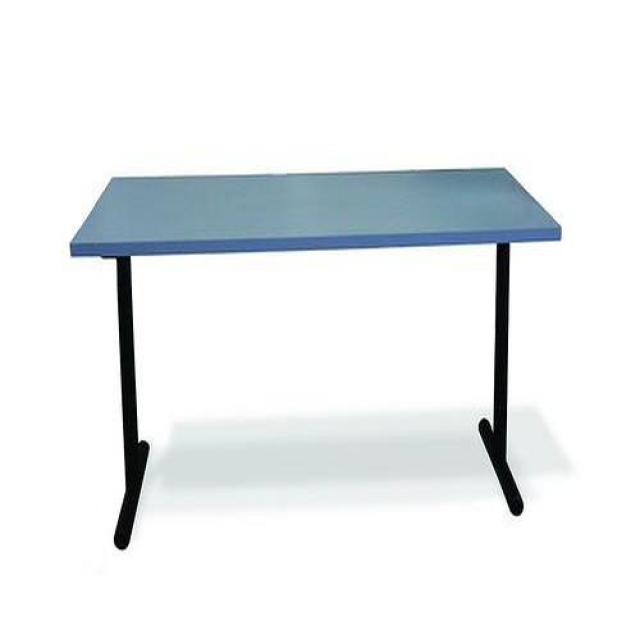table: (67, 168, 563, 550)
